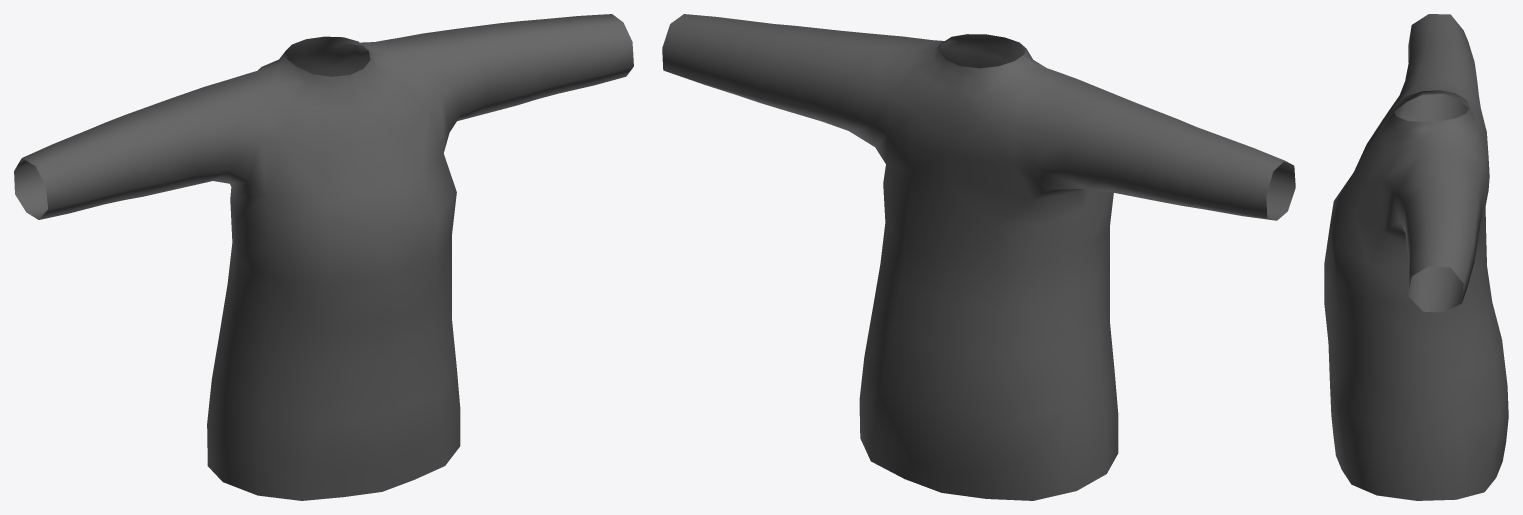
Rendered from Outerwear_Black_005.glb.
The picture shows the model from 3 angles, left to right: view 1: azimuth 30°, elevation 25°; view 2: azimuth 150°, elevation 25°; view 3: azimuth 270°, elevation 25°; orthographic projection. The views are drawn at different scales.
Parts seen in each view (by area): view 1: Outerwear_Black_005; view 2: Outerwear_Black_005; view 3: Outerwear_Black_005.
Boxes of the visible parts, box(x1,y1,x2,y2) form: Outerwear_Black_005: box(14, 14, 633, 500); Outerwear_Black_005: box(662, 14, 1295, 500); Outerwear_Black_005: box(1324, 14, 1508, 500).
Size of the model in its own units: 1.22 by 0.8008 by 0.3763.
Materials: 1 (1 with a texture image).
